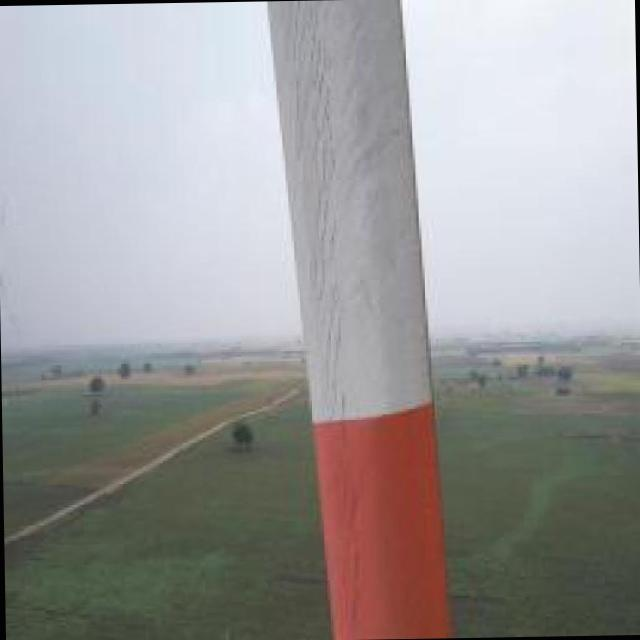Dirt: (275, 0, 420, 637)
